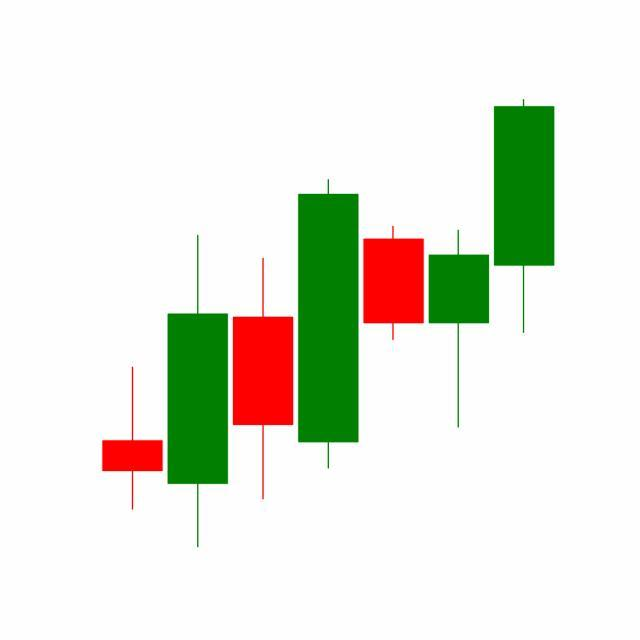Hikkake Pattern: (229, 100, 555, 506)
